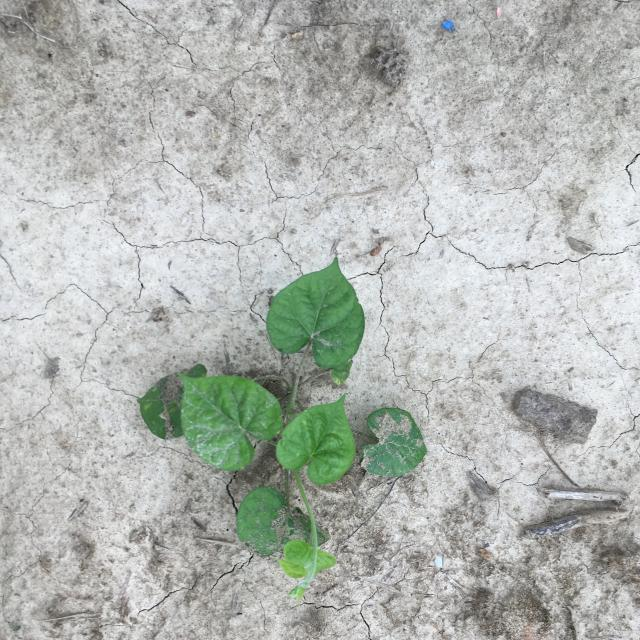MorningGlory: (137, 256, 428, 604)
